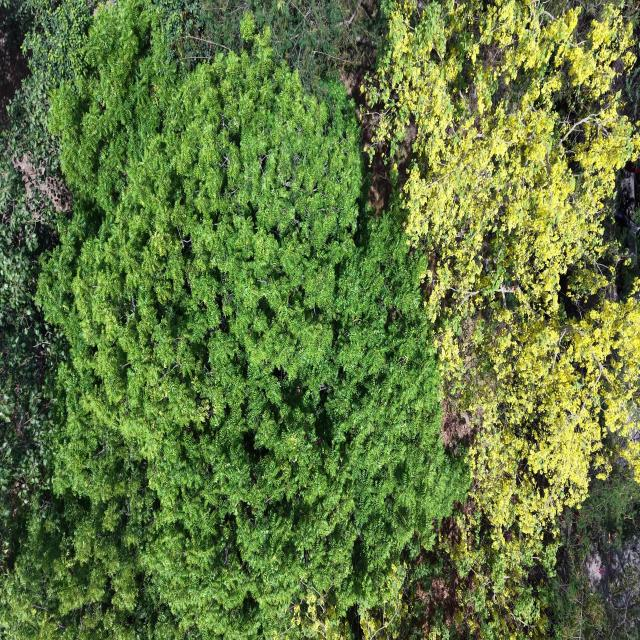DRY_AREA: (0, 7, 28, 127)
VEGETATION_TREE: (0, 0, 639, 639), (3, 0, 467, 637), (367, 0, 639, 637), (0, 0, 90, 574), (171, 0, 386, 96), (549, 466, 639, 639)
